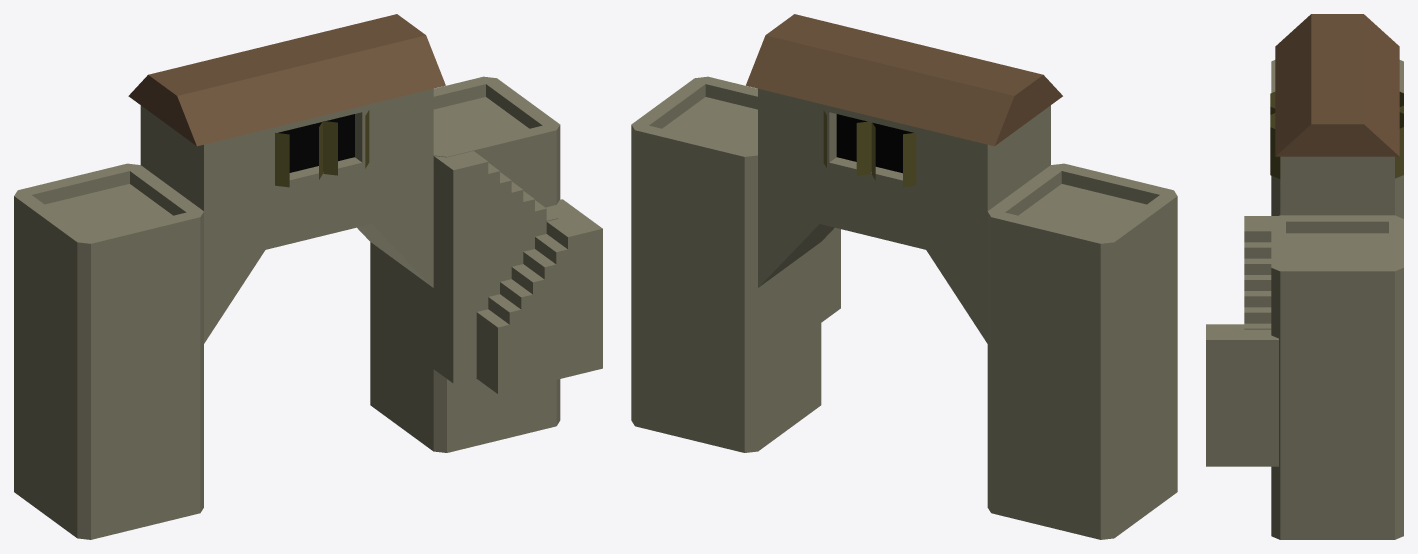
File: deserthouse3.glb
3 views of the same model, side by side, from view 1: azimuth 30°, elevation 25°; view 2: azimuth 150°, elevation 25°; view 3: azimuth 270°, elevation 25° (orthographic). The views are drawn at different scales.
Visible parts, largest first — view 1: Cube.002, Cube.001, Cube, Cube.006, Cube.005, Plane.001; view 2: Cube.002, Cube.001, Cube.005, Plane.001, Cube.006; view 3: Cube.002, Cube.001, Cube, Cube.006, Plane.001.
Boxes of the visible parts, x1=… form: Cube.002: x1=14, y1=76, x2=560, y2=539; Cube.001: x1=128, y1=14, x2=445, y2=146; Cube: x1=476, y1=199, x2=602, y2=393; Cube.006: x1=433, y1=151, x2=558, y2=383; Cube.005: x1=278, y1=114, x2=354, y2=172; Plane.001: x1=275, y1=110, x2=369, y2=187; Cube.002: x1=631, y1=76, x2=1177, y2=539; Cube.001: x1=746, y1=14, x2=1062, y2=146; Cube.005: x1=836, y1=114, x2=913, y2=173; Plane.001: x1=823, y1=110, x2=916, y2=187; Cube.006: x1=821, y1=227, x2=840, y2=322; Cube.002: x1=1271, y1=60, x2=1403, y2=539; Cube.001: x1=1275, y1=14, x2=1399, y2=156; Cube: x1=1206, y1=324, x2=1278, y2=466; Cube.006: x1=1244, y1=216, x2=1277, y2=329; Plane.001: x1=1270, y1=92, x2=1403, y2=178.
Size of the model in its own units: 83.08 by 65.74 by 32.41.
